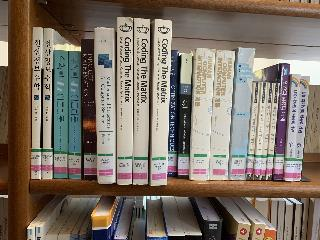book-spine: (150, 19, 172, 186), (228, 47, 255, 181), (190, 48, 215, 181), (210, 49, 235, 181), (132, 18, 151, 185), (95, 27, 115, 184), (116, 17, 133, 185), (81, 39, 97, 181), (291, 75, 310, 181), (274, 63, 290, 180), (284, 74, 301, 181), (54, 50, 68, 178), (167, 50, 181, 178), (178, 54, 192, 179), (68, 52, 81, 179), (31, 26, 41, 179), (245, 83, 260, 180), (253, 82, 267, 180), (43, 28, 52, 179), (266, 83, 280, 180), (260, 83, 273, 180)
